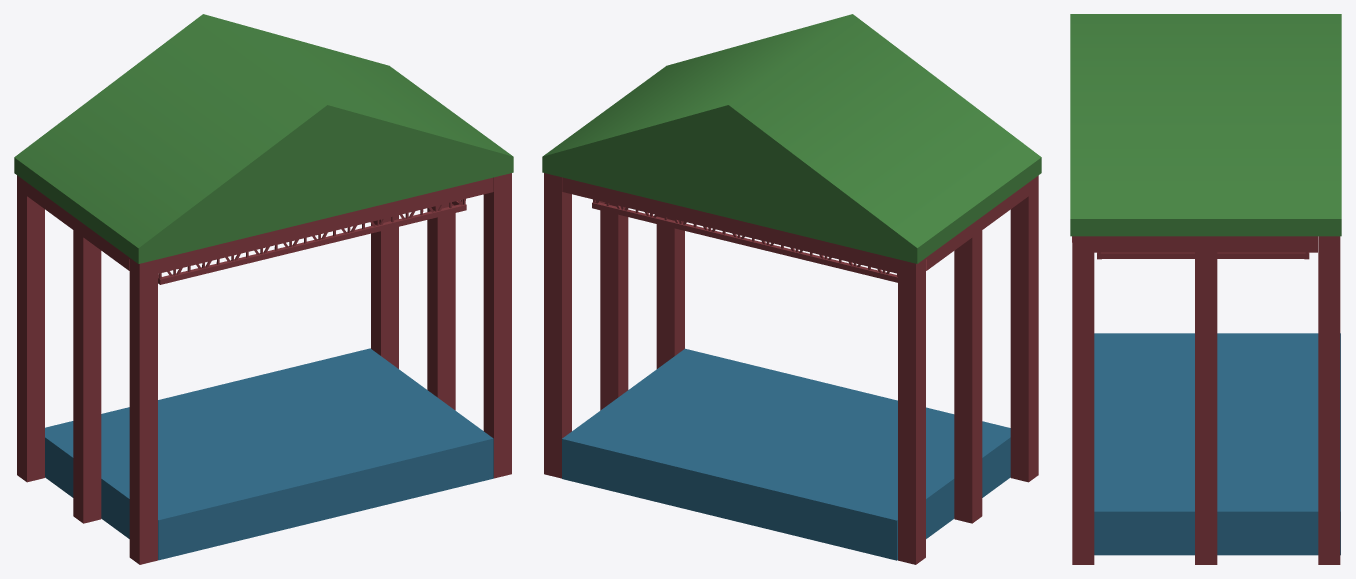
Rendered from Stage.fbx.
3 views of the same model, side by side, from view 1: azimuth 30°, elevation 25°; view 2: azimuth 150°, elevation 25°; view 3: azimuth 270°, elevation 25° (orthographic). The views are drawn at different scales.
Parts seen in each view (by area): view 1: polySurface2, polySurface1, polySurface6, polySurface7, polySurface11, polySurface8, polySurface10, polySurface3, polySurface9, polySurface5, polySurface14; view 2: polySurface2, polySurface1, polySurface8, polySurface6, polySurface11, polySurface9, polySurface10, polySurface12, polySurface7, polySurface58, polySurface14; view 3: polySurface2, polySurface1, polySurface7, polySurface9, polySurface10, polySurface13, polySurface148.
Boxes of the visible parts, <box> form: polySurface2: <box>14,14,513,263</box>; polySurface1: <box>45,348,493,560</box>; polySurface6: <box>129,258,157,564</box>; polySurface7: <box>483,173,511,478</box>; polySurface11: <box>73,230,101,523</box>; polySurface8: <box>17,175,44,482</box>; polySurface10: <box>427,203,455,410</box>; polySurface3: <box>158,177,493,273</box>; polySurface9: <box>371,215,398,368</box>; polySurface5: <box>158,204,466,284</box>; polySurface14: <box>26,182,129,270</box>; polySurface2: <box>542,14,1041,263</box>; polySurface1: <box>562,348,1010,560</box>; polySurface8: <box>898,258,925,564</box>; polySurface6: <box>1010,175,1038,482</box>; polySurface11: <box>954,230,982,523</box>; polySurface9: <box>544,173,571,478</box>; polySurface10: <box>600,202,628,410</box>; polySurface12: <box>562,177,897,273</box>; polySurface7: <box>656,215,684,368</box>; polySurface58: <box>592,202,897,282</box>; polySurface14: <box>926,182,1028,270</box>; polySurface2: <box>1070,14,1341,236</box>; polySurface1: <box>1094,333,1340,555</box>; polySurface7: <box>1072,236,1094,564</box>; polySurface9: <box>1318,236,1340,564</box>; polySurface10: <box>1195,252,1217,564</box>; polySurface13: <box>1094,236,1317,252</box>; polySurface148: <box>1102,252,1304,258</box>.
Size of the model in its own units: 31.28 by 33.05 by 17.95.
